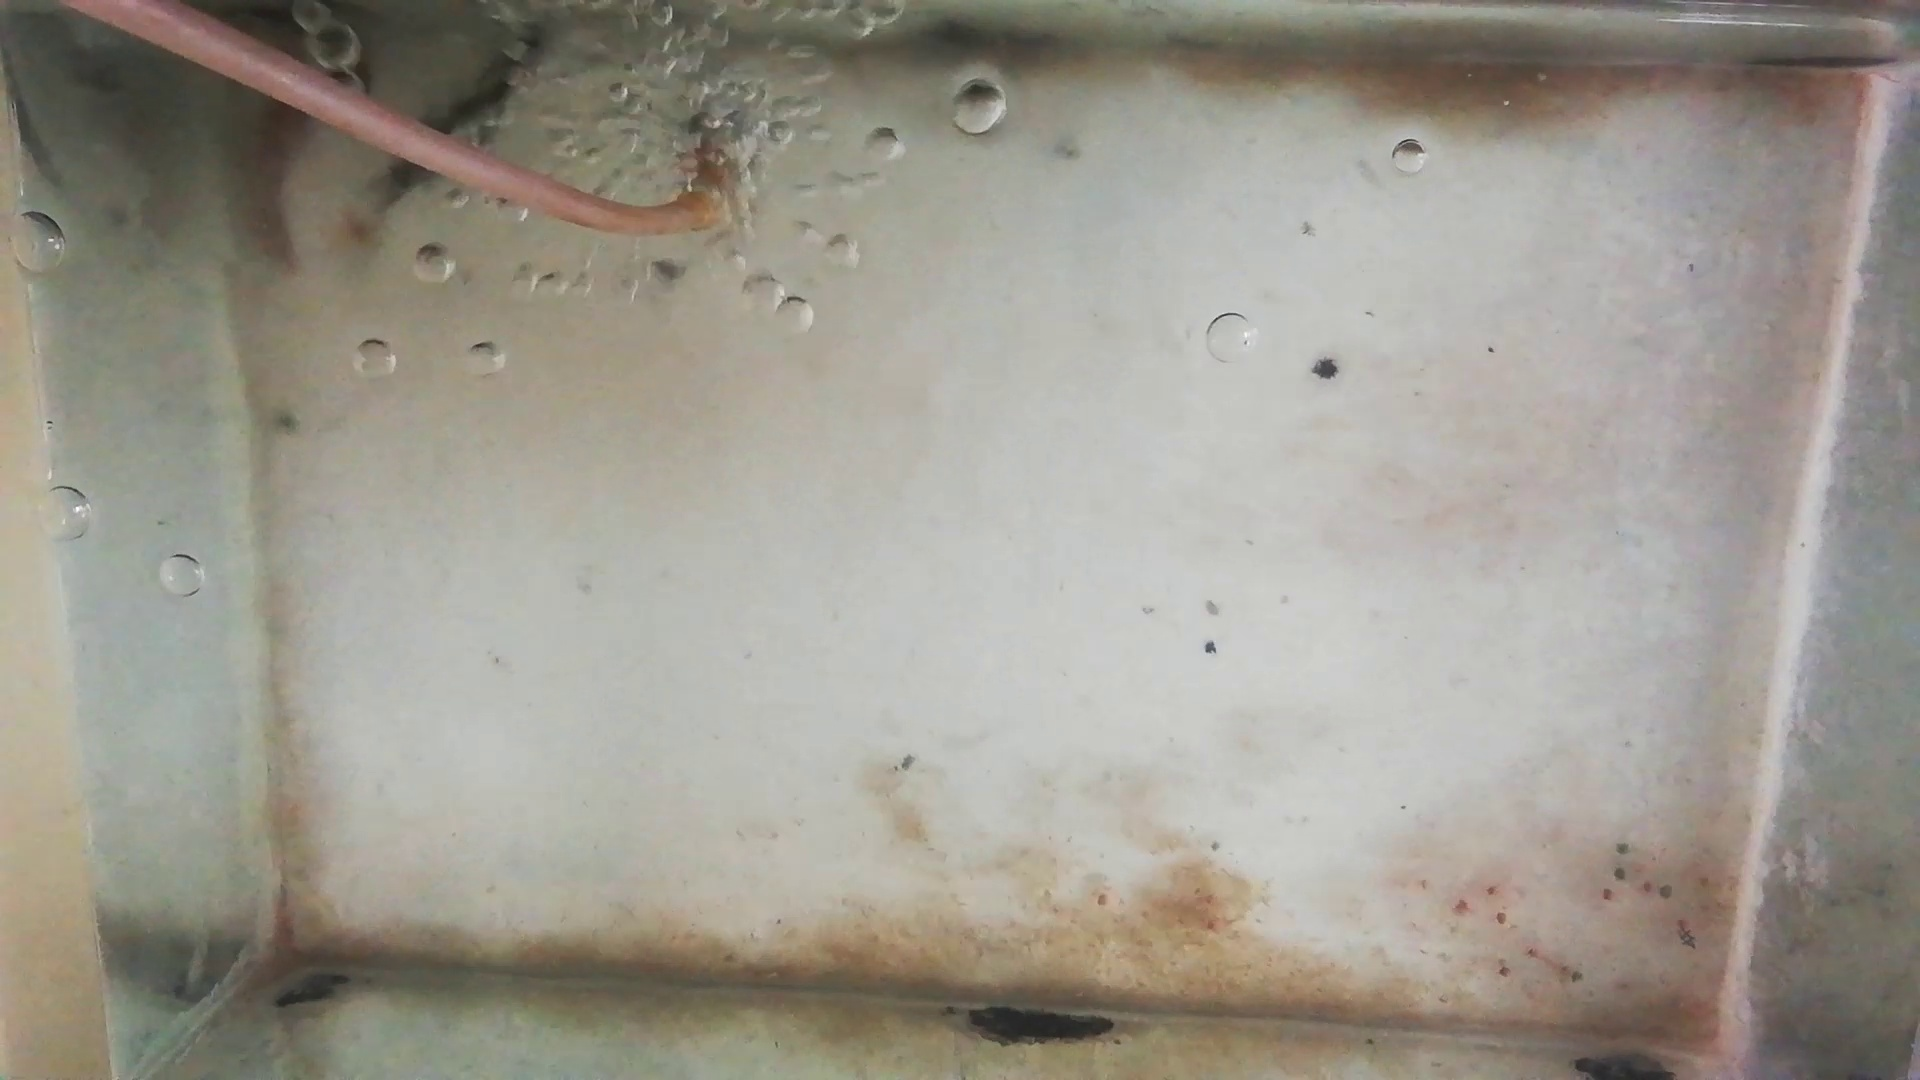fish: (378, 36, 542, 195), (247, 94, 313, 268)
